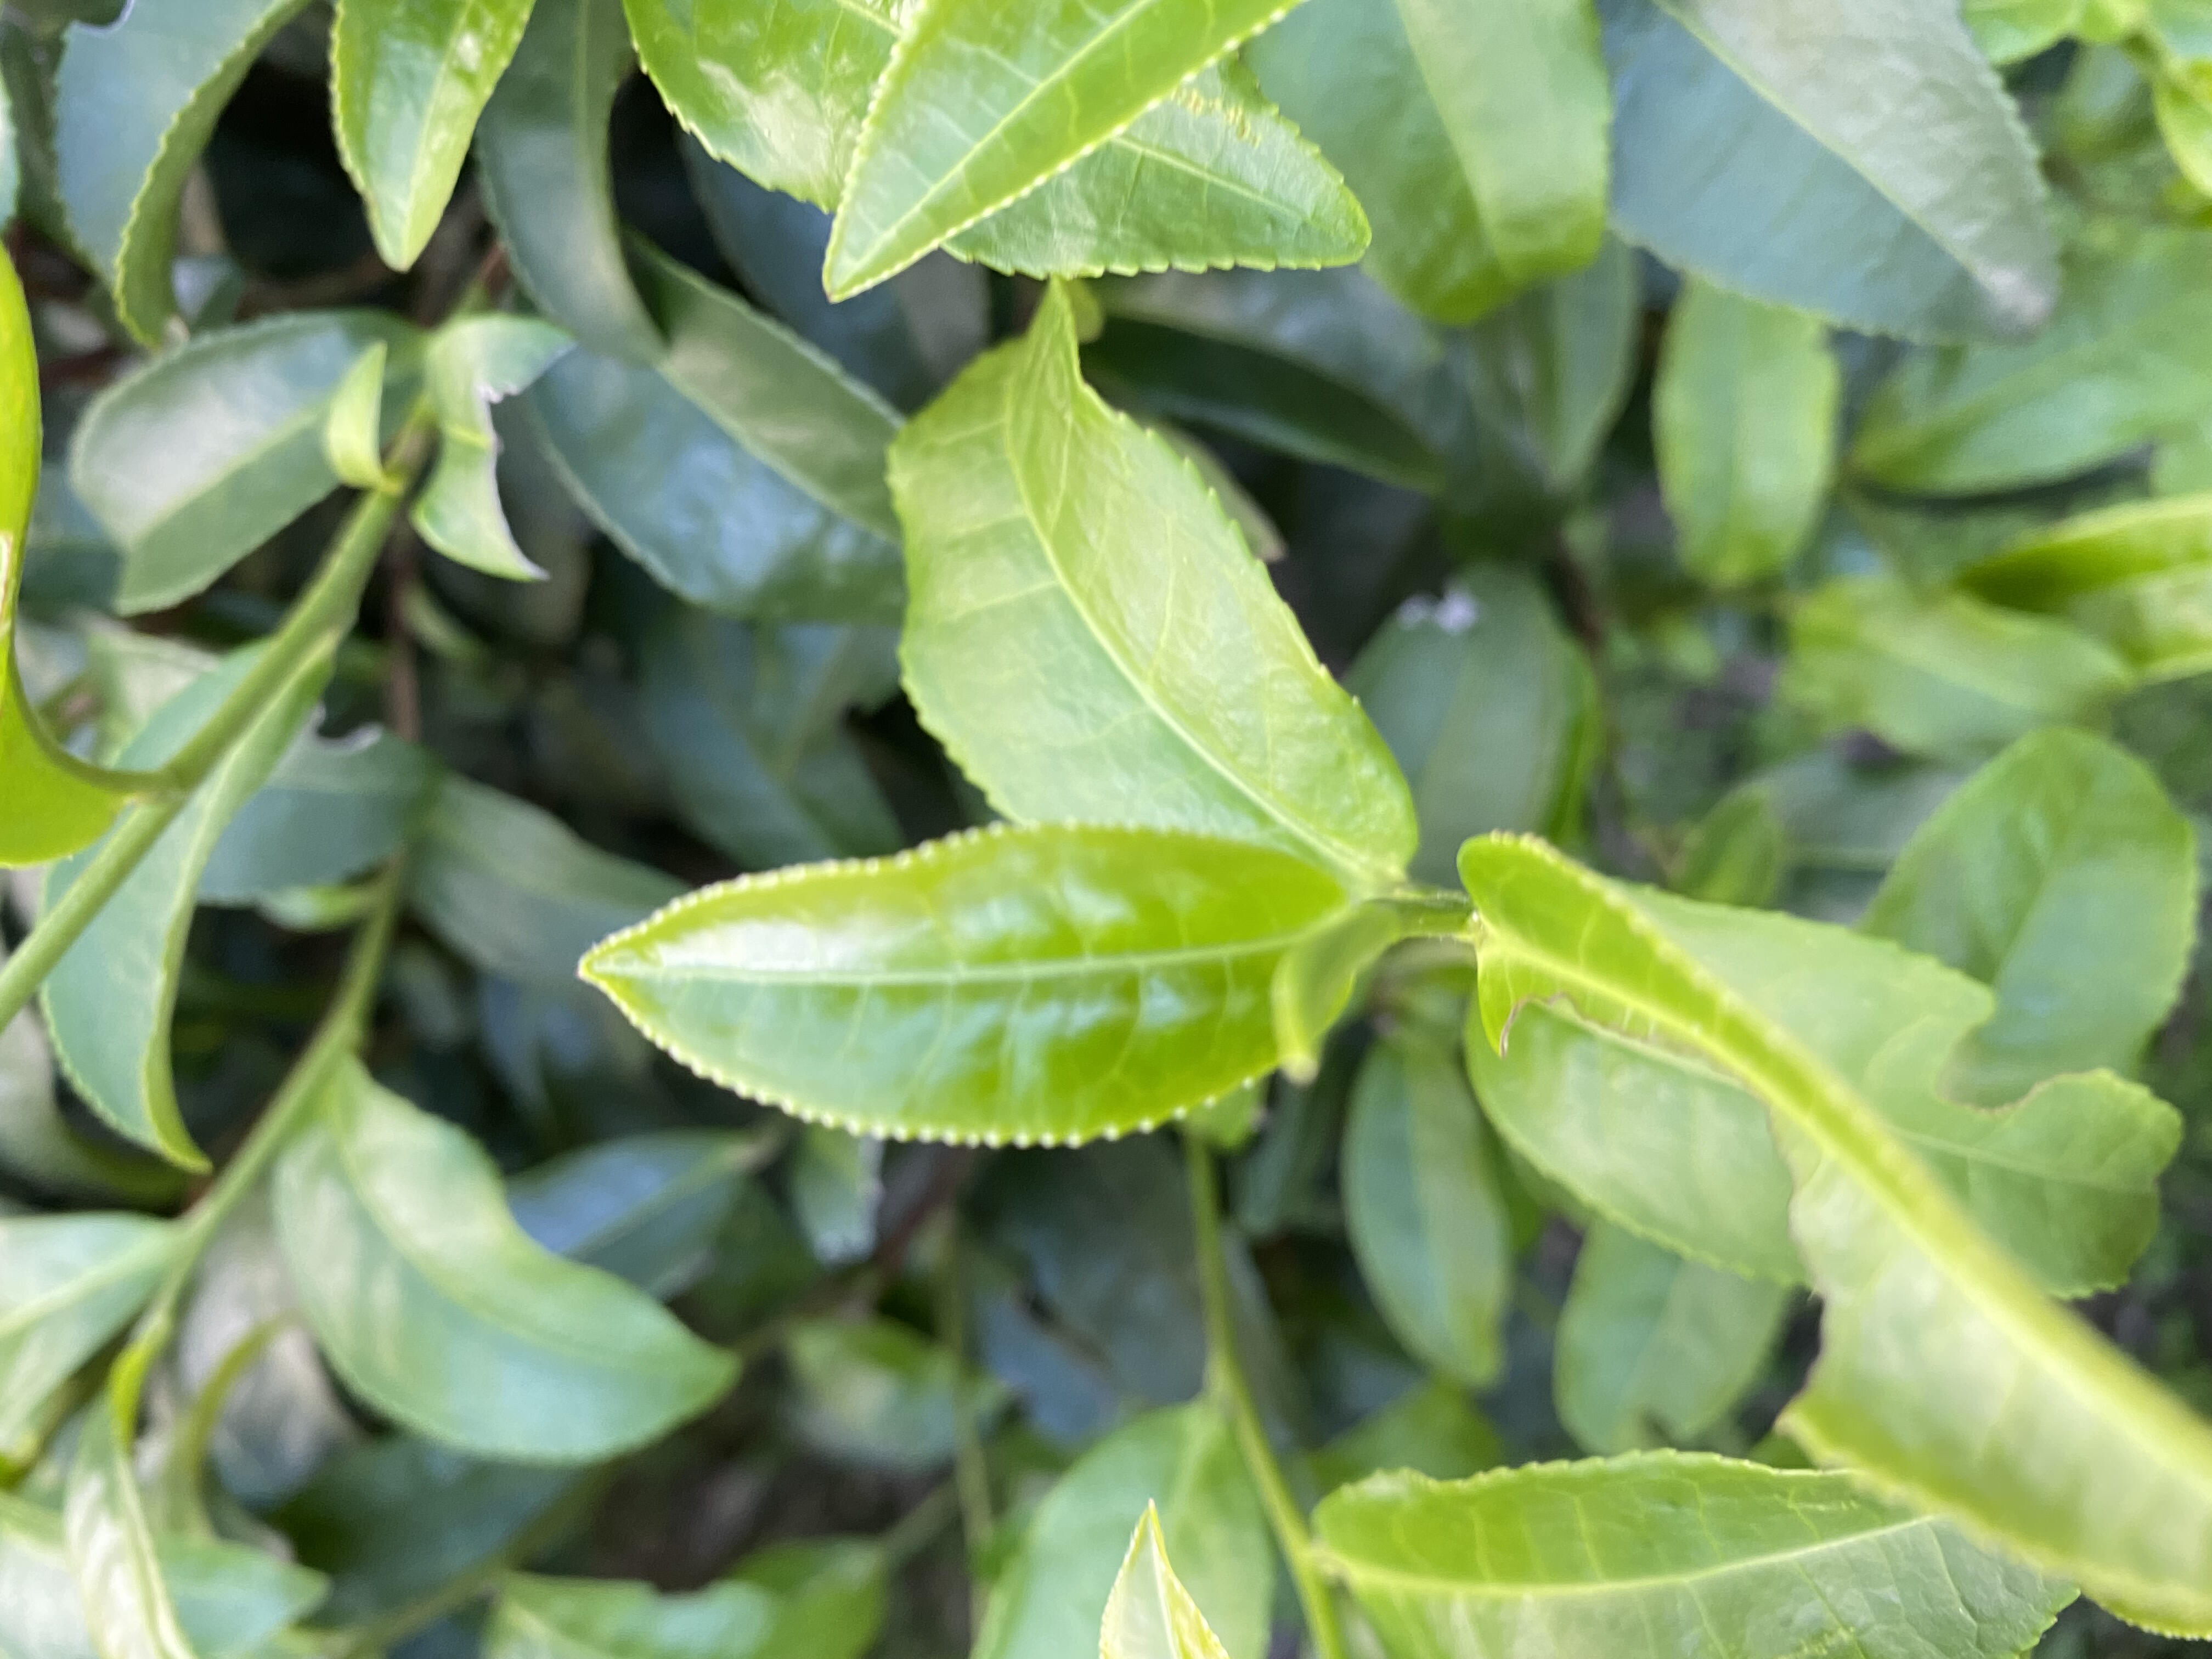chihuo_high: (1454, 824, 2212, 1640)
chihuo_low: (1460, 877, 2184, 1304), (42, 3, 312, 354)
healthy: (883, 286, 1420, 880), (568, 817, 1376, 1159), (617, 3, 1378, 270), (813, 5, 1299, 312), (319, 3, 543, 272)
